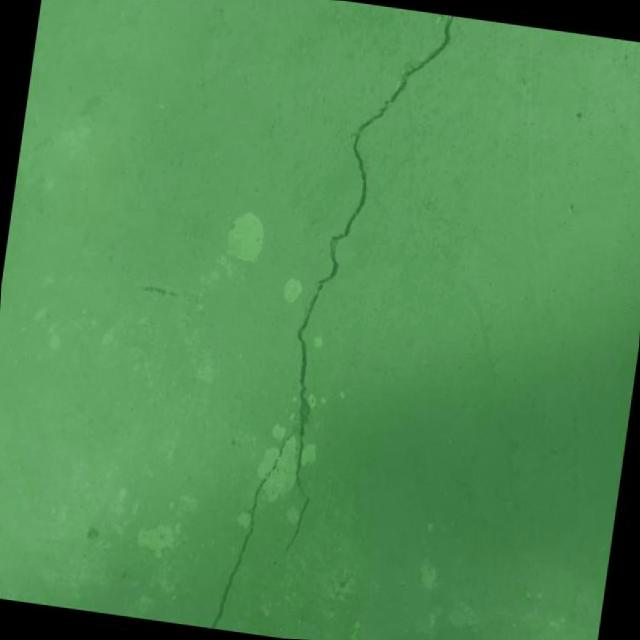crack: (210, 0, 457, 640)
